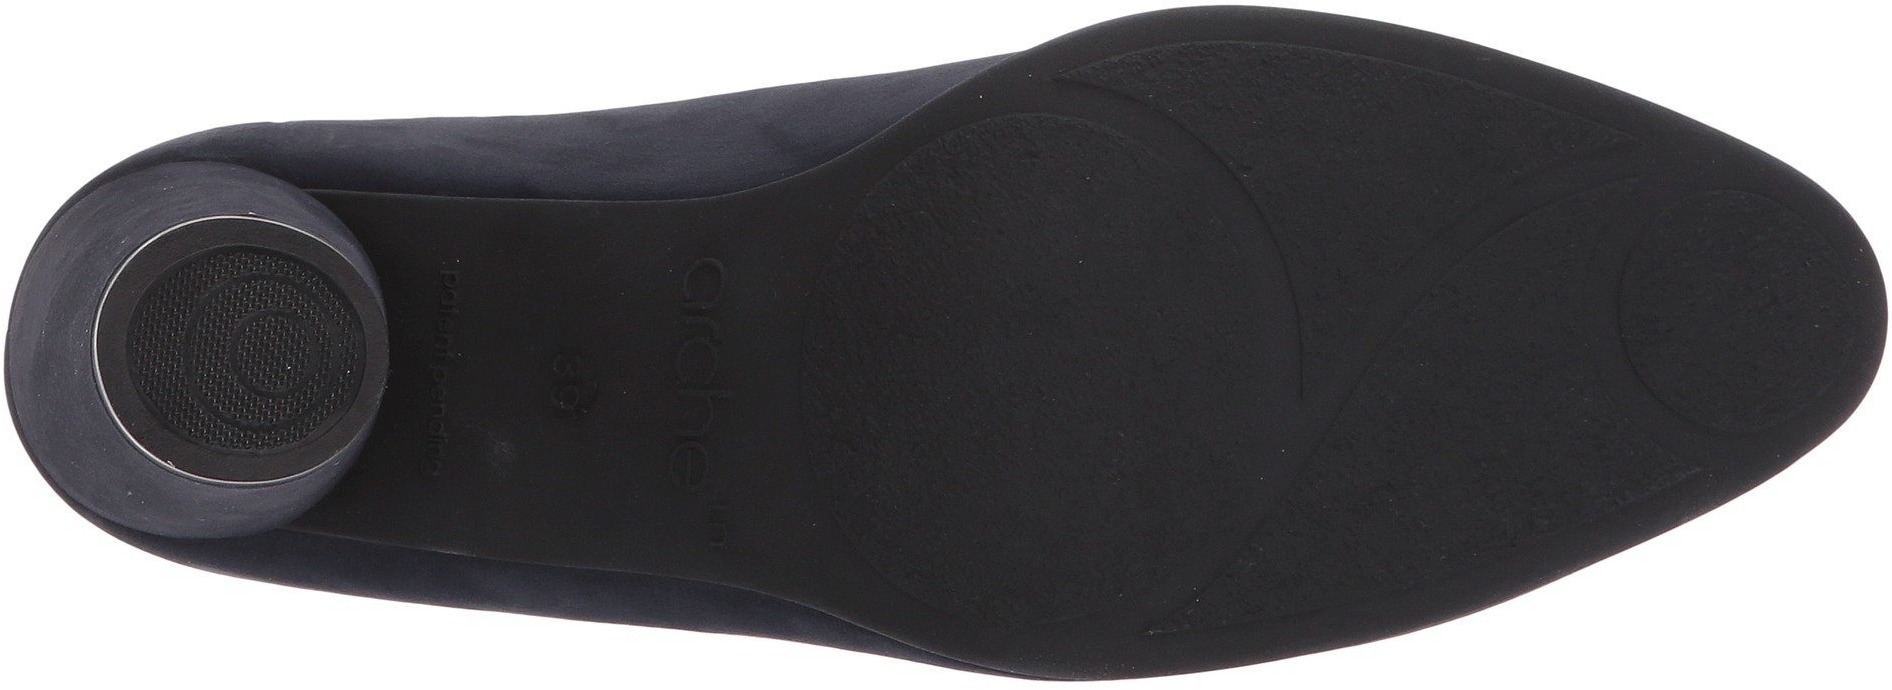circle: (1608, 191, 1840, 426), (145, 279, 345, 433)
other: (824, 238, 1189, 525), (1413, 308, 1608, 505), (1249, 71, 1432, 247)
ribbon: (1219, 281, 1423, 473)
text: (642, 388, 776, 533), (627, 241, 755, 384)
